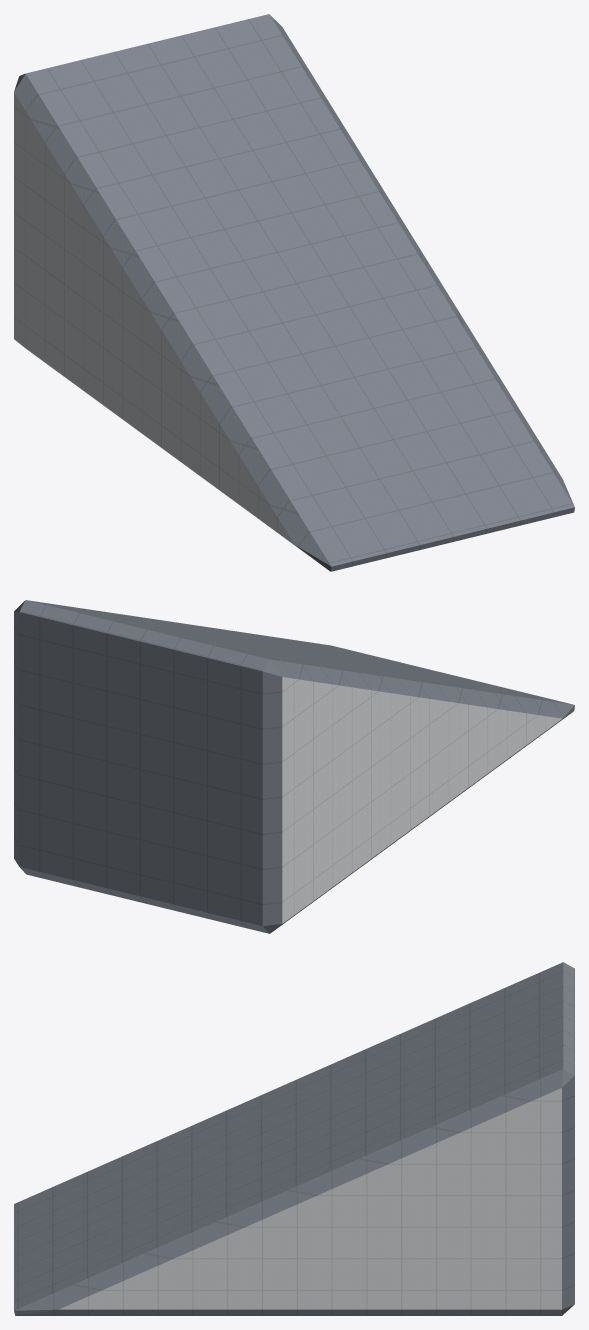
The model's file is R4B_LongWedge_LOD1.glb.
3 renders of one model, top to bottom at view 1: azimuth 30°, elevation 25°; view 2: azimuth 150°, elevation 25°; view 3: azimuth 270°, elevation 25°, orthographic. The views are drawn at different scales.
Parts seen in each view (by area): view 1: R4B_LongWedge_LOD1; view 2: R4B_LongWedge_LOD1; view 3: R4B_LongWedge_LOD1.
Boxes of the visible parts, x1,y1,x2,y2 form: R4B_LongWedge_LOD1: (14, 14, 574, 571); R4B_LongWedge_LOD1: (14, 600, 574, 933); R4B_LongWedge_LOD1: (14, 962, 574, 1315).
Size of the model in its own units: 0.52 by 0.5095 by 1.05.
2 materials, 2 textured.
